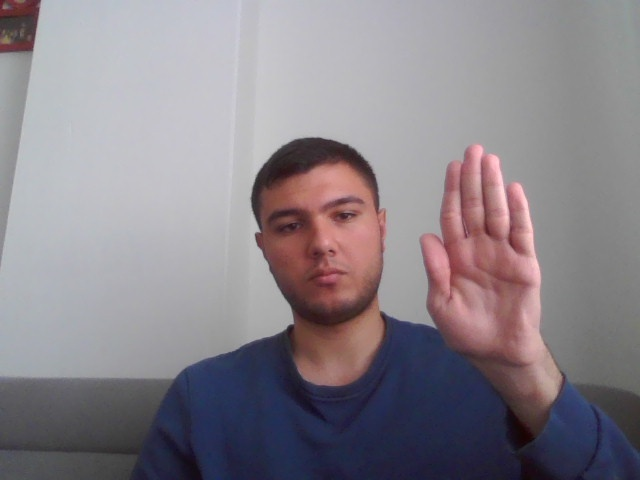Hello: (419, 140, 558, 366)
